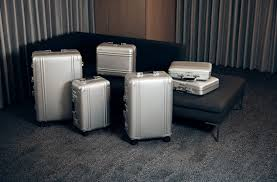suitcase: (35, 48, 85, 121), (124, 71, 176, 141), (70, 74, 113, 135)
